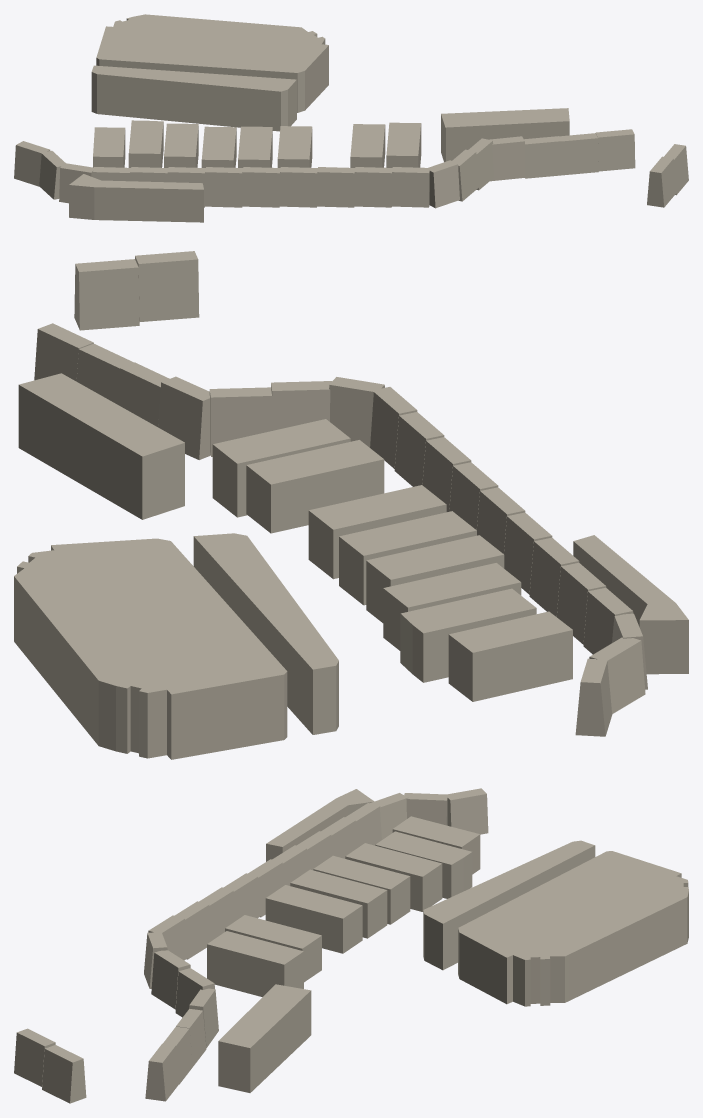
Rendered from bormla_63_31_far.glb.
3 views of the same model, one above another, from view 1: azimuth 30°, elevation 25°; view 2: azimuth 150°, elevation 25°; view 3: azimuth 270°, elevation 25° (orthographic). The views are drawn at different scales.
Parts seen in each view (by area): view 1: geometry_0; view 2: geometry_0; view 3: geometry_0.
Part boxes in pixels (bbox=[...]): geometry_0: bbox=[14, 14, 688, 222]; geometry_0: bbox=[14, 251, 688, 759]; geometry_0: bbox=[14, 788, 688, 1103].
Bounding box in the file's own units: 187 × 18.96 × 188.
